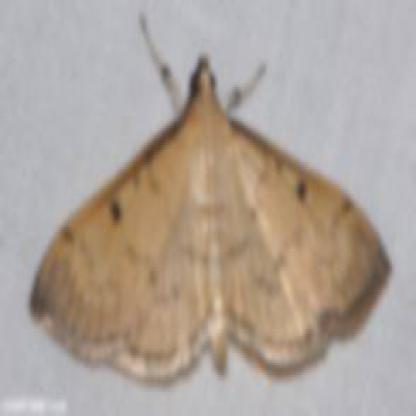Leaf Webber: (20, 53, 399, 388)
